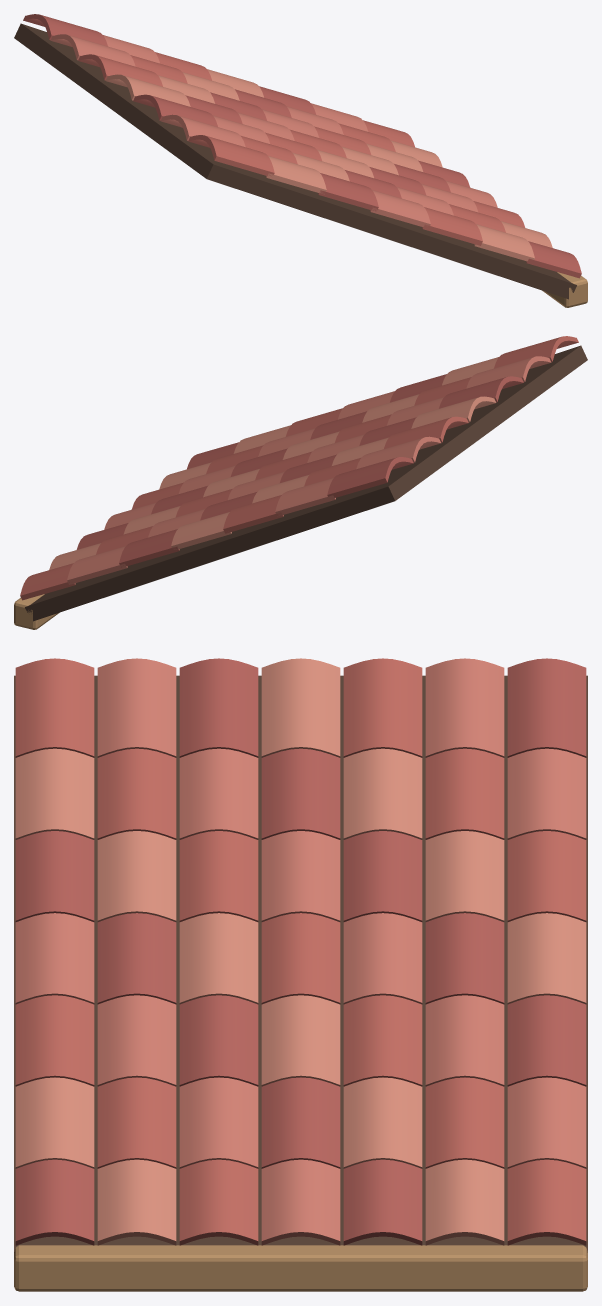
The model's file is roof_slope_terracotta_2m.glb.
3 views of the same model, one above another, from view 1: azimuth 30°, elevation 25°; view 2: azimuth 150°, elevation 25°; view 3: azimuth 270°, elevation 25° (orthographic). The views are drawn at different scales.
Visible parts, largest first — view 1: roof_slope_terracotta_2m; view 2: roof_slope_terracotta_2m; view 3: roof_slope_terracotta_2m.
Part boxes in pixels (left/top/right/bottom): roof_slope_terracotta_2m: left=14, top=14, right=587, bottom=307; roof_slope_terracotta_2m: left=14, top=336, right=587, bottom=629; roof_slope_terracotta_2m: left=14, top=658, right=587, bottom=1291.
Size of the model in its own units: 2.29 by 1.41 by 2.
